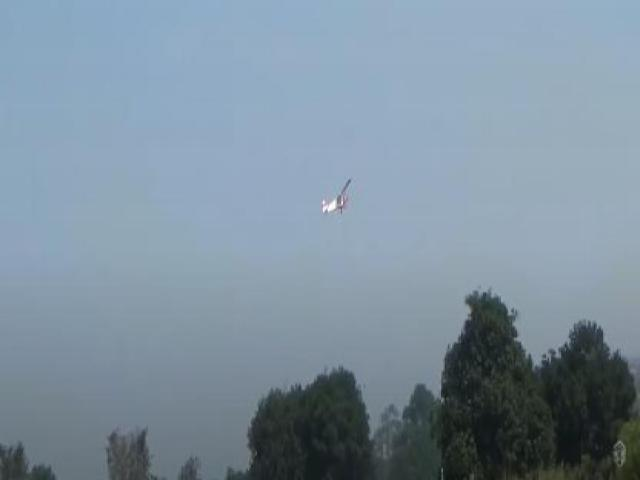uav: (320, 168, 351, 225)
